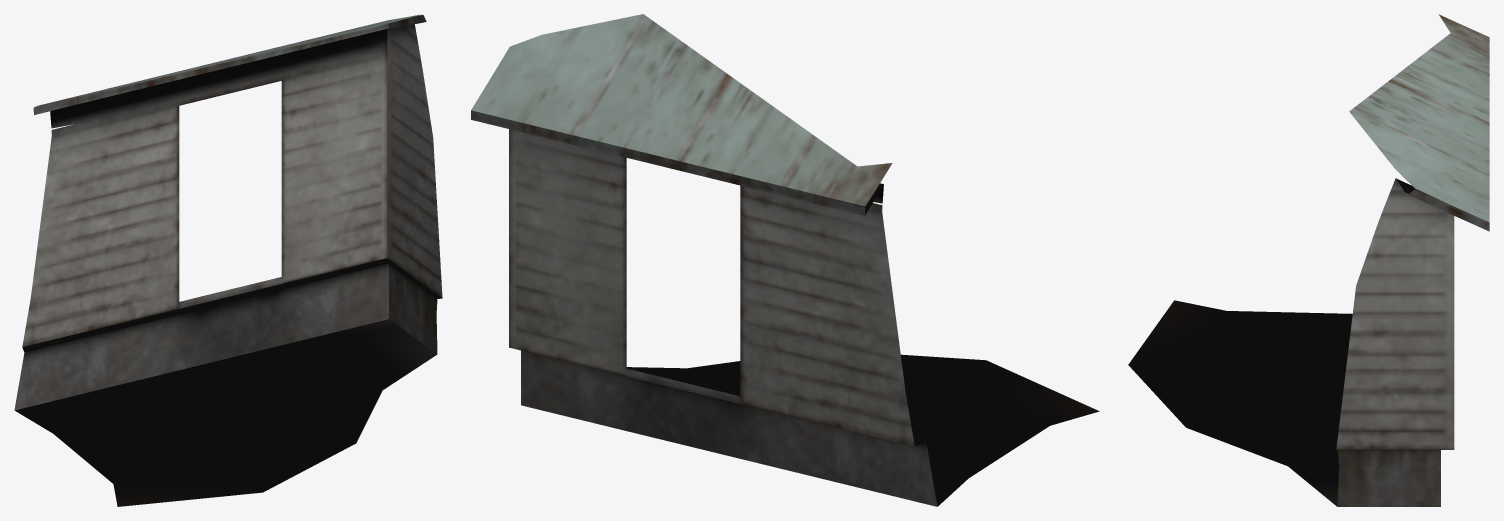
File: House_02_05.fbx
The picture shows the model from 3 angles, left to right: view 1: azimuth 30°, elevation 25°; view 2: azimuth 150°, elevation 25°; view 3: azimuth 270°, elevation 25°; orthographic projection. The views are drawn at different scales.
Visible parts, largest first — view 1: Object001.009; view 2: Object001.009; view 3: Object001.009.
Boxes of the visible parts, left/top/right/bottom form: Object001.009: left=14, top=14, right=442, bottom=506; Object001.009: left=471, top=14, right=1099, bottom=506; Object001.009: left=1128, top=14, right=1489, bottom=506.
Size of the model in its own units: 7.92 by 6.1 by 5.55.
1 material, 1 textured.
